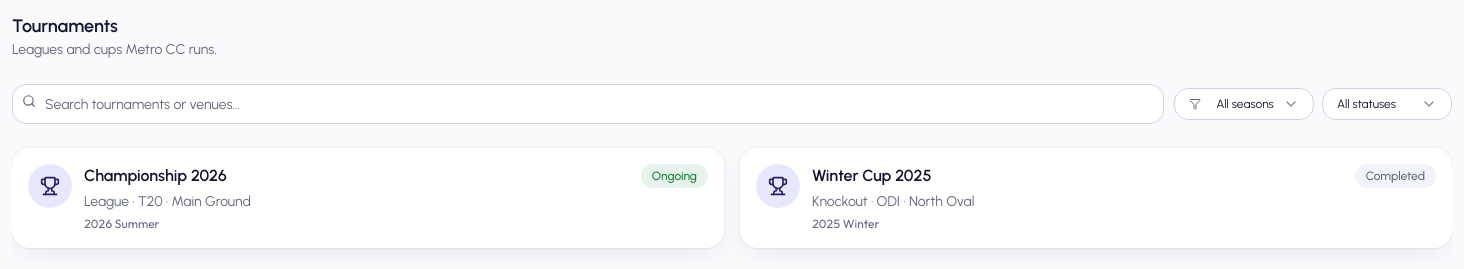
Scenario: ClubTournamentsTab Component › filters tournaments by search query
Step 1. Type "Winter" into the field labelled "Search tournaments or venues..." → (588, 104), box x1=12 y1=84 x2=1164 y2=124
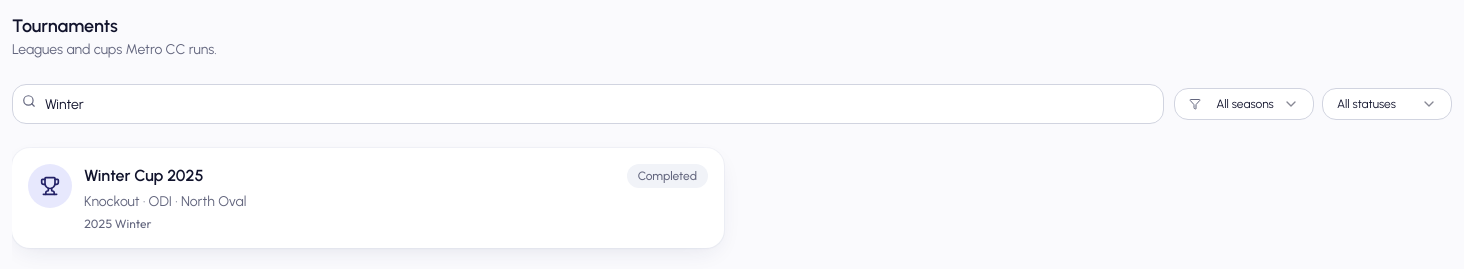
Expected: the text "Winter Cup 2025" is shown, x1=84 y1=164 x2=204 y2=188
Result: the link "Championship 2026" is gone
